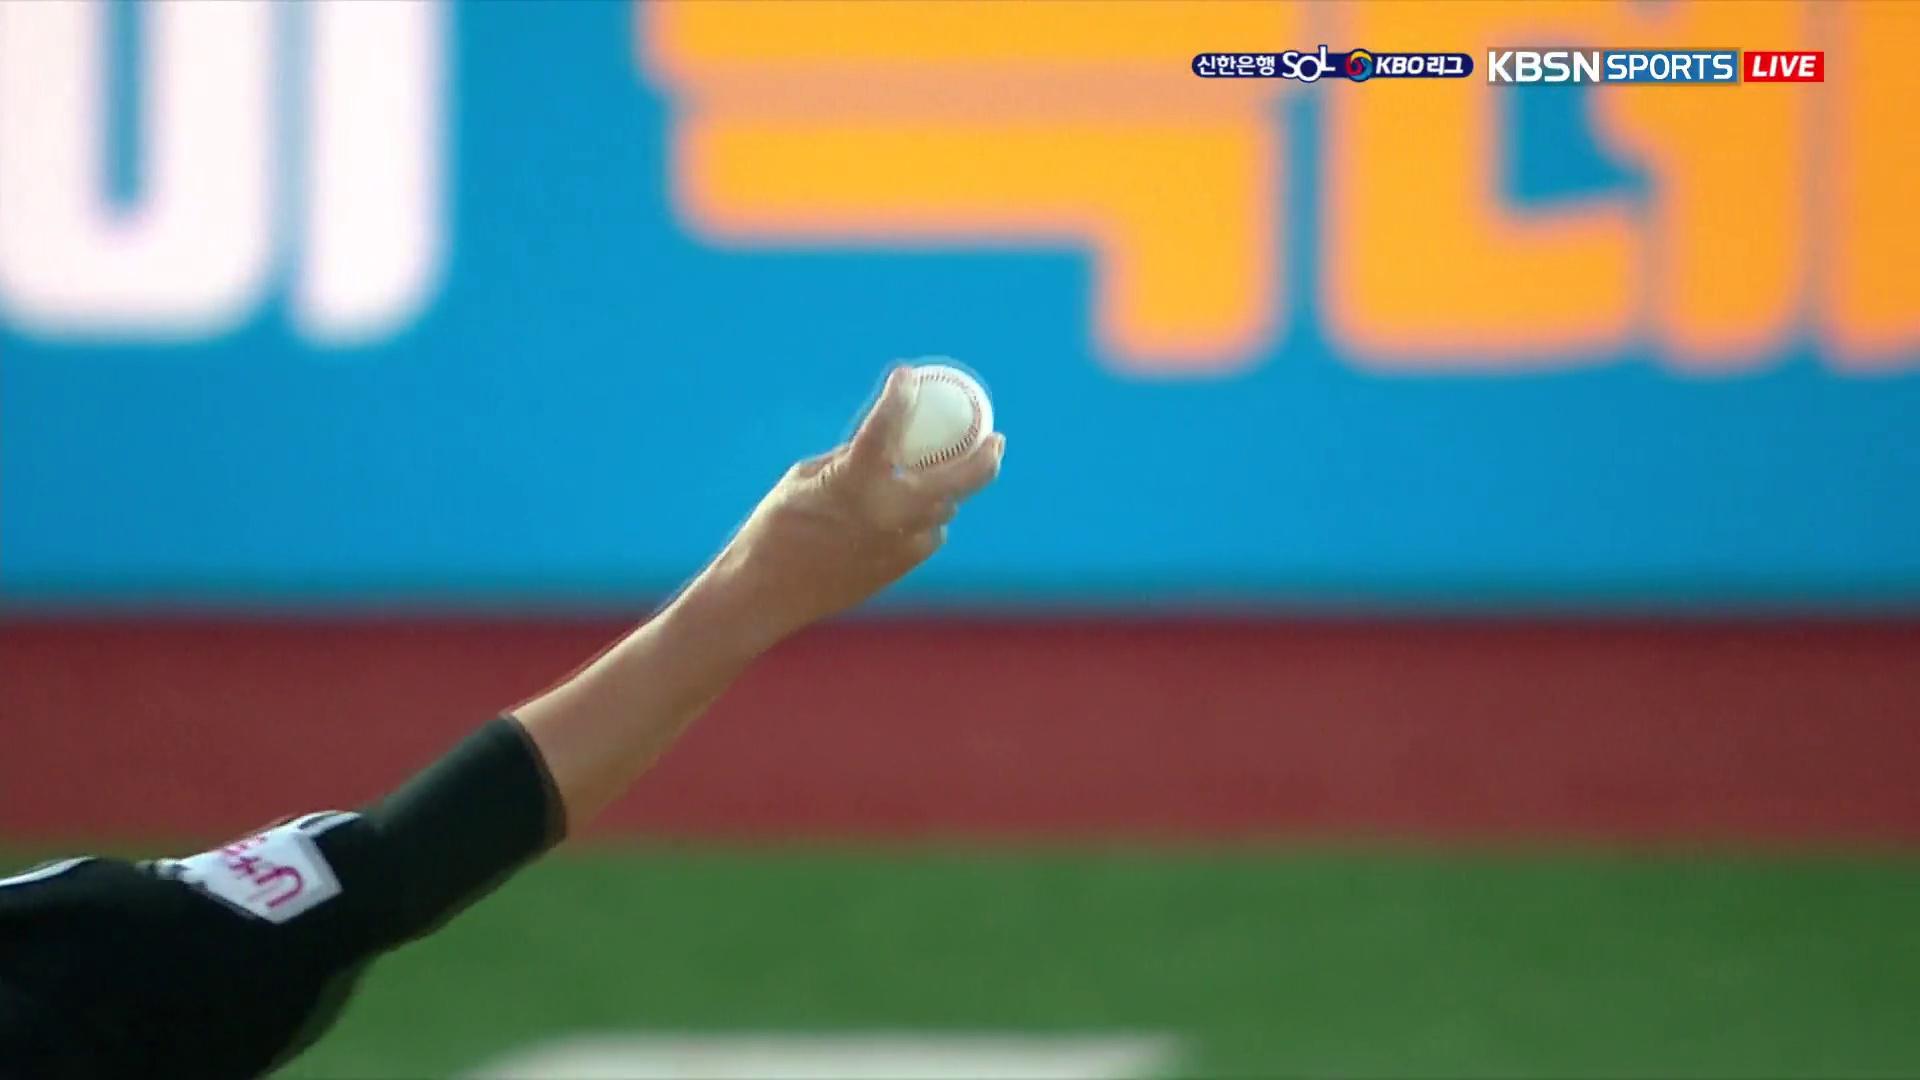zoomin_hand: (342, 342, 1015, 948)
